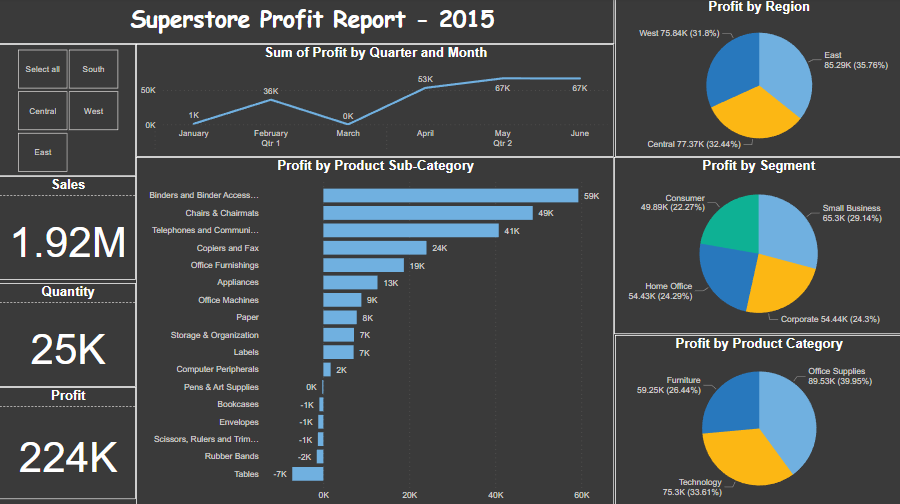

This screenshot's page, from the dashboard's own definition file:
{"tool":"powerbi","page":{"name":"Page 1","canvas":[1280,720],"ordinal":0},"visuals":[{"type":"pieChart","title":"Profit by Product Category","fields":{"Category":["Orders.Product Category"],"Y":["Sum(Orders.Profit)"]},"box":[873.1,477.6,406.8,242.4],"z":0},{"type":"pieChart","title":"Profit by Region","fields":{"Y":["Sum(Orders.Profit)"],"Category":["Orders.Region"]},"box":[873.1,0,406.8,225.4],"z":1000},{"type":"pieChart","title":"Profit by Segment","fields":{"Category":["Orders.Customer Segment"],"Y":["Sum(Orders.Profit)"]},"box":[871.7,225.4,408.2,250.9],"z":2000},{"type":"clusteredBarChart","title":"Profit by Product Sub-Category","fields":{"Category":["Orders.Product Sub-Category"],"Y":["Sum(Orders.Profit)"]},"box":[194.2,225.4,677.5,494.6],"z":3000},{"type":"textbox","box":[0,0,871.7,65.2],"z":4000},{"type":"slicer","fields":{"Values":["Orders.Region"]},"box":[0,65.2,194.2,187.1],"z":5000},{"type":"lineChart","fields":{"Y":["Sum(Orders.Profit)"],"Category":["Orders.Order Date.Variation.Date Hierarchy.Quarter","Orders.Order Date.Variation.Date Hierarchy.Month"]},"box":[194.2,65.2,677.5,160.2],"z":6000},{"type":"card","title":"Sales","fields":{"Values":["Sum(Orders.Sales)"]},"box":[0,252.3,194.2,147.4],"z":7000},{"type":"card","title":"Quantity","fields":{"Values":["Sum(Orders.Quantity ordered new)"]},"box":[0,403.9,194.2,147.4],"z":8000},{"type":"card","title":"Profit","fields":{"Values":["Sum(Orders.Profit)"]},"box":[0,551.3,194.2,158.7],"z":9000}]}

Visuals, with their boxes in screenshot pixels (x1, y1, x2, y2), scaled from the page's 1280x720 canvas onto the 900x504 screenshot:
"Profit by Product Category" pieChart: locate(614, 334, 899, 503)
"Profit by Region" pieChart: locate(614, 0, 899, 158)
"Profit by Segment" pieChart: locate(613, 158, 899, 333)
"Profit by Product Sub-Category" clusteredBarChart: locate(137, 158, 613, 503)
textbox: locate(0, 0, 613, 46)
slicer - Orders.Region: locate(0, 46, 137, 177)
lineChart - Sum(Orders.Profit) x Orders.Order Date.Variation.Date Hierarchy.Quarter: locate(137, 46, 613, 158)
"Sales" card: locate(0, 177, 137, 280)
"Quantity" card: locate(0, 283, 137, 386)
"Profit" card: locate(0, 386, 137, 497)
